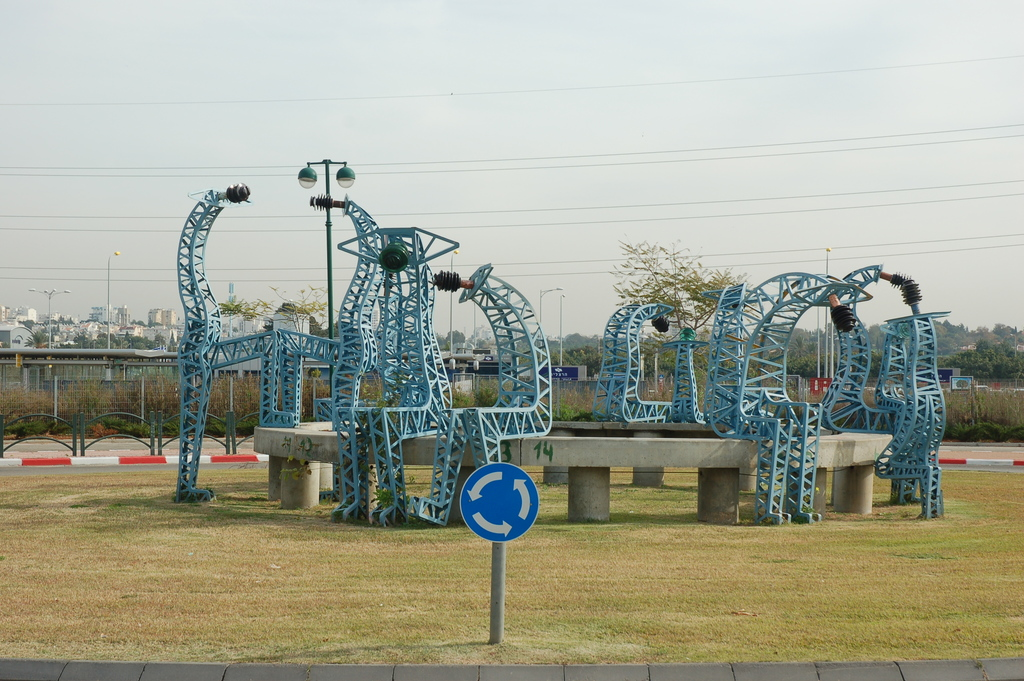Tree: (748, 326, 1023, 381), (604, 238, 734, 348), (545, 332, 746, 373), (213, 282, 330, 333), (61, 338, 180, 367), (437, 328, 472, 351), (26, 328, 49, 352), (302, 366, 322, 388), (12, 316, 36, 326)
